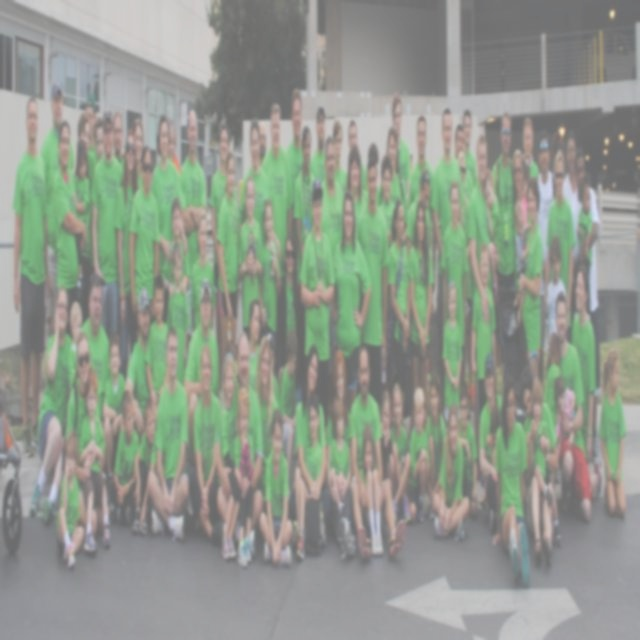pessoa: (11, 90, 55, 458), (38, 77, 76, 399), (28, 283, 78, 527), (215, 328, 264, 563), (430, 106, 465, 426), (468, 132, 500, 462), (570, 146, 602, 468), (147, 323, 190, 545), (288, 342, 332, 558), (300, 176, 335, 442), (331, 190, 372, 416), (554, 288, 593, 524), (518, 360, 560, 570), (357, 156, 390, 422), (492, 374, 532, 590), (64, 328, 104, 540), (209, 121, 238, 407), (52, 117, 88, 336), (183, 276, 222, 478), (178, 104, 208, 360), (324, 344, 359, 563), (188, 340, 224, 552), (348, 343, 383, 560), (91, 107, 123, 342), (114, 128, 140, 384), (78, 362, 112, 557), (216, 150, 242, 400), (544, 148, 576, 348), (260, 102, 295, 284), (238, 116, 281, 264), (149, 113, 188, 275), (408, 198, 434, 438), (471, 242, 497, 481), (293, 124, 316, 393), (129, 144, 160, 342), (320, 132, 345, 376), (258, 404, 294, 570), (152, 114, 188, 276), (430, 399, 470, 542), (440, 180, 468, 381), (408, 114, 438, 301), (526, 375, 558, 550), (292, 390, 324, 562), (570, 266, 596, 476), (518, 176, 544, 384), (387, 198, 411, 417), (219, 351, 243, 561), (284, 85, 313, 255), (276, 230, 304, 406), (80, 272, 110, 436), (254, 334, 284, 496), (536, 130, 555, 384), (478, 352, 504, 536), (598, 347, 626, 517), (247, 119, 280, 262), (110, 387, 142, 532), (124, 287, 152, 450), (492, 110, 516, 297), (232, 382, 255, 570), (255, 333, 280, 501), (238, 174, 263, 340), (103, 330, 126, 507), (258, 198, 280, 380), (56, 428, 84, 570), (144, 272, 169, 430), (377, 125, 408, 248), (358, 421, 385, 560), (132, 396, 158, 539), (166, 240, 191, 387), (189, 210, 216, 334), (425, 371, 447, 523), (542, 330, 562, 494), (457, 150, 472, 360), (280, 328, 298, 502), (442, 278, 463, 425), (390, 382, 411, 528), (328, 392, 351, 525), (76, 88, 104, 196), (512, 148, 532, 296), (457, 377, 478, 517), (378, 152, 396, 315), (409, 386, 430, 524), (162, 196, 190, 299), (545, 234, 567, 360), (73, 137, 90, 300), (339, 142, 366, 243), (483, 167, 501, 309), (552, 371, 577, 469), (479, 406, 502, 512), (406, 166, 431, 262), (392, 90, 412, 210), (513, 199, 531, 329), (574, 179, 593, 302), (346, 119, 368, 198), (454, 123, 474, 206), (379, 387, 395, 490), (68, 298, 83, 392), (309, 104, 326, 185), (247, 297, 261, 395), (332, 118, 348, 201), (462, 108, 477, 194), (562, 129, 578, 209), (522, 115, 540, 185), (130, 116, 146, 190), (366, 130, 381, 207), (112, 110, 126, 183), (553, 128, 565, 170), (521, 152, 530, 193), (408, 152, 414, 174)
